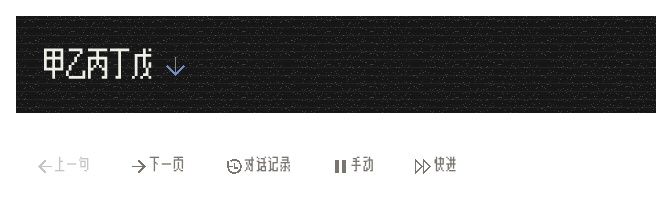
it: dialogue reading controls › reflows to the first page without revealing a newly skipped prefix
The width and height of the screenshot is (656, 203).
Step 1. Click the button "下一页" → (154, 165), box [111, 144, 198, 186]
Wait 80 ms
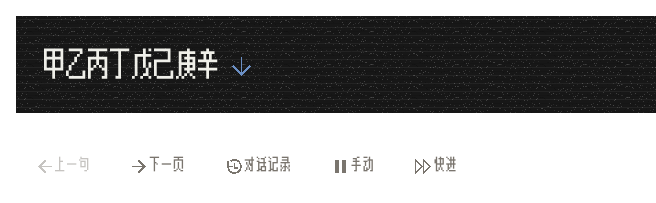
Now the text "甲乙丙丁戊己庚辛" is shown, box [44, 48, 255, 82]
